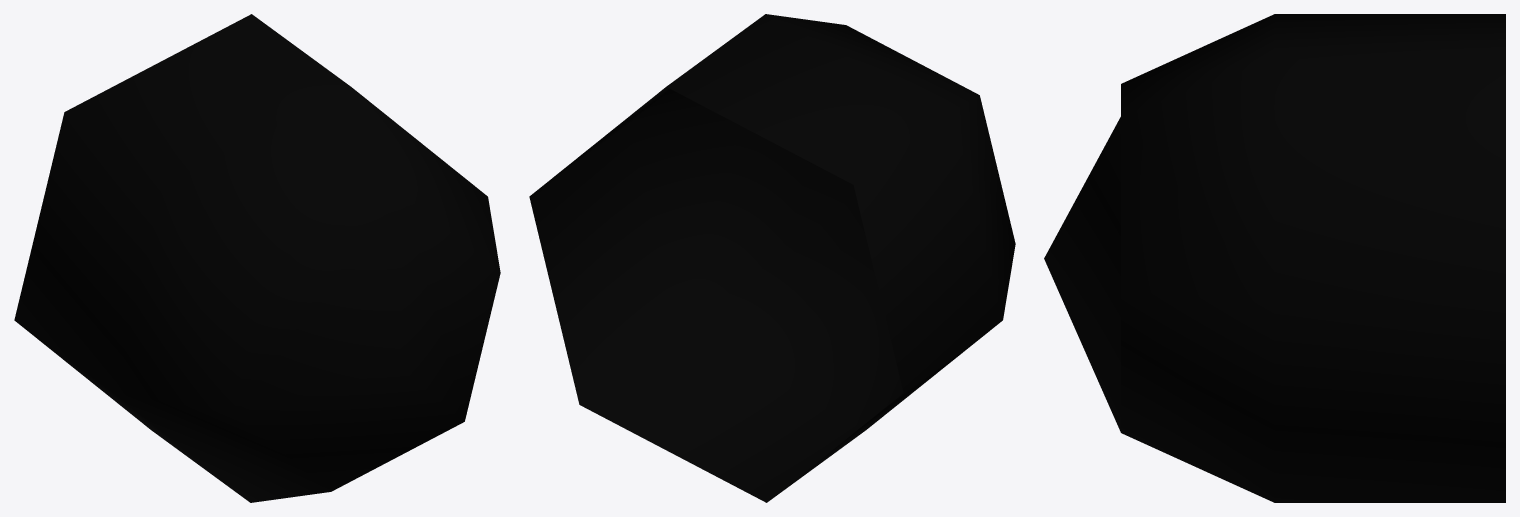
3 views of the same model, side by side, from view 1: azimuth 30°, elevation 25°; view 2: azimuth 150°, elevation 25°; view 3: azimuth 270°, elevation 25° (orthographic). The views are drawn at different scales.
Visible parts, largest first — view 1: T1L4M003_2; view 2: T1L4M003_2; view 3: T1L4M003_2.
Boxes of the visible parts, x1=… form: T1L4M003_2: x1=14, y1=14, x2=500, y2=502; T1L4M003_2: x1=529, y1=14, x2=1015, y2=502; T1L4M003_2: x1=1044, y1=14, x2=1505, y2=502.
Bounding box in the file's own units: 1.31 × 1.31 × 1.2.
